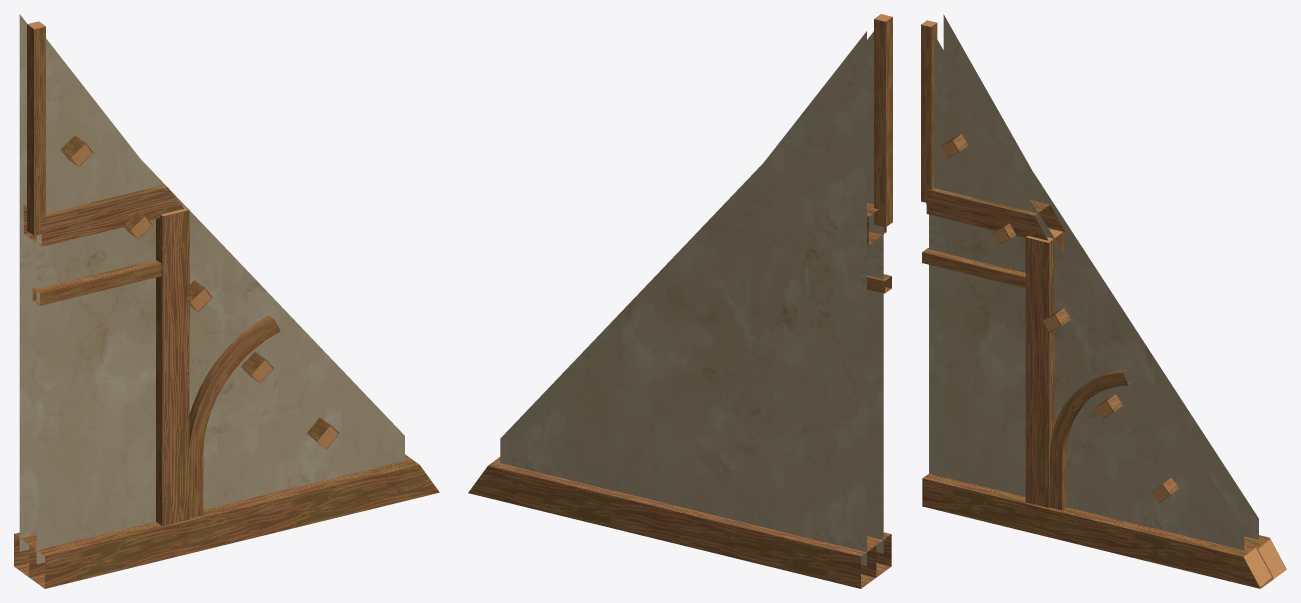
Rendered from Roof_Front_Brick6_Half_R.gltf.
3 renders of one model, left to right at view 1: azimuth 30°, elevation 25°; view 2: azimuth 150°, elevation 25°; view 3: azimuth 330°, elevation 25°, orthographic. The views are drawn at different scales.
Parts seen in each view (by area): view 1: Roof_Front_Brick6_Half_R; view 2: Roof_Front_Brick6_Half_R; view 3: Roof_Front_Brick6_Half_R.
Part boxes in pixels (x1=…): Roof_Front_Brick6_Half_R: x1=14, y1=14, x2=439, y2=588; Roof_Front_Brick6_Half_R: x1=468, y1=14, x2=892, y2=588; Roof_Front_Brick6_Half_R: x1=921, y1=14, x2=1286, y2=588.
Bounding box in the file's own units: 3.4 × 4.52 × 0.4896.
Materials: 2 (2 with a texture image).
